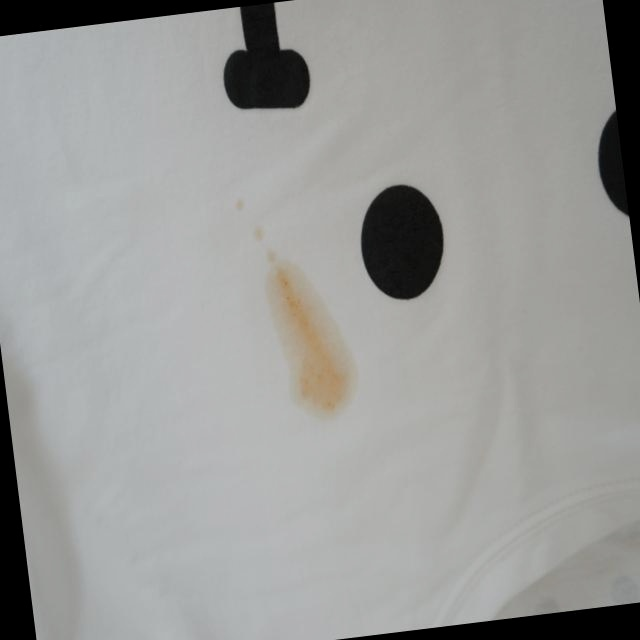kimchi: (229, 205, 363, 426)
